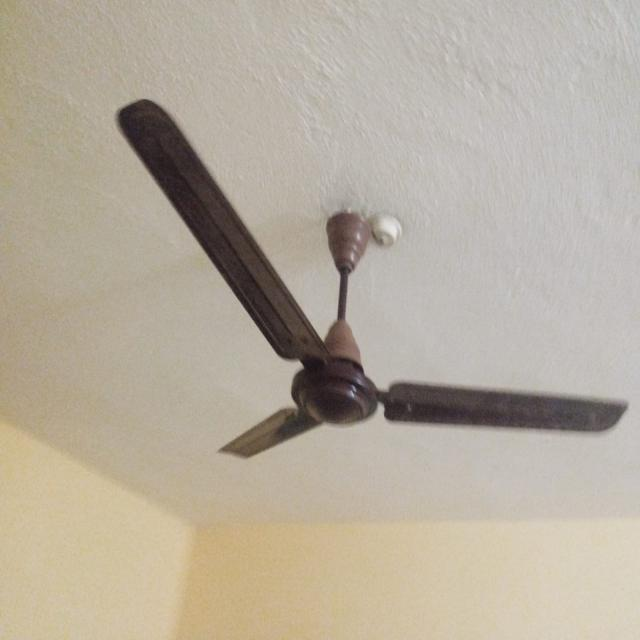fan_off: (117, 96, 625, 456)
